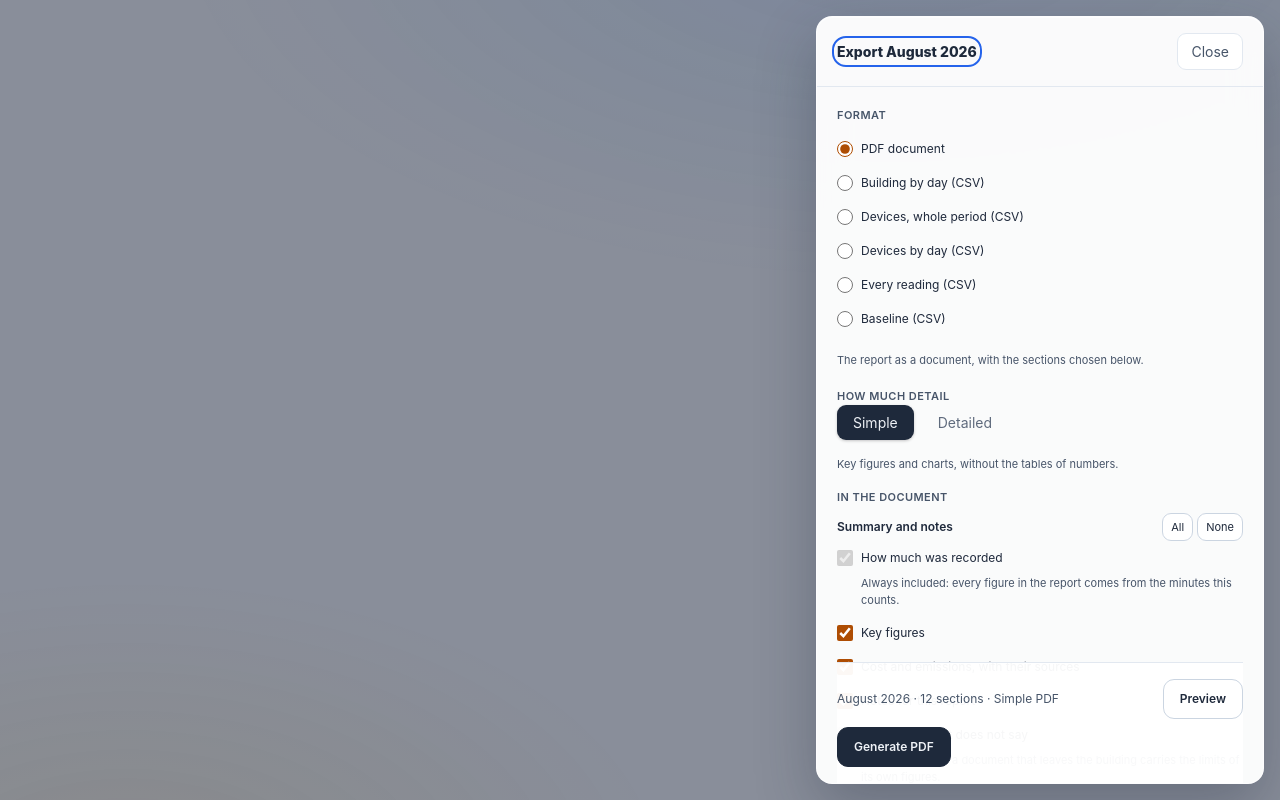
Test: ExportDrawer › says a failure in words beside the button, rather than doing nothing
Click the button "Generate PDF".
click(894, 747)  # box [837,727,951,767]
(page scrolled)
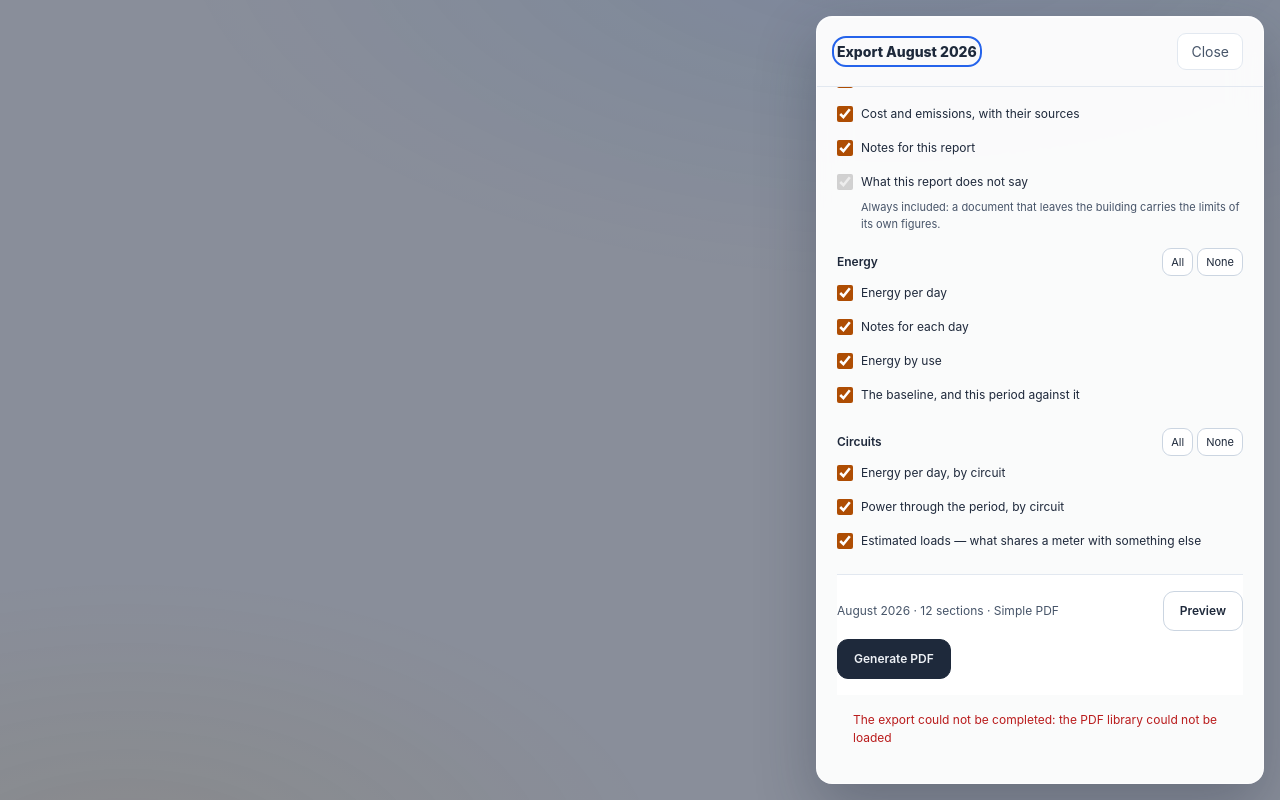
Check: the message shows "the PDF library could not be loaded", box [853,712,1217,745]
